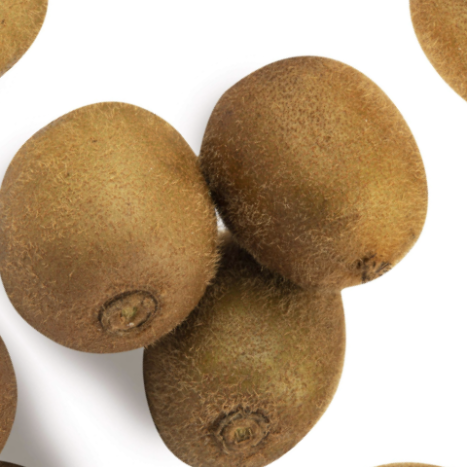kiwi: (0, 41, 301, 422), (141, 0, 467, 340), (56, 189, 392, 467)
